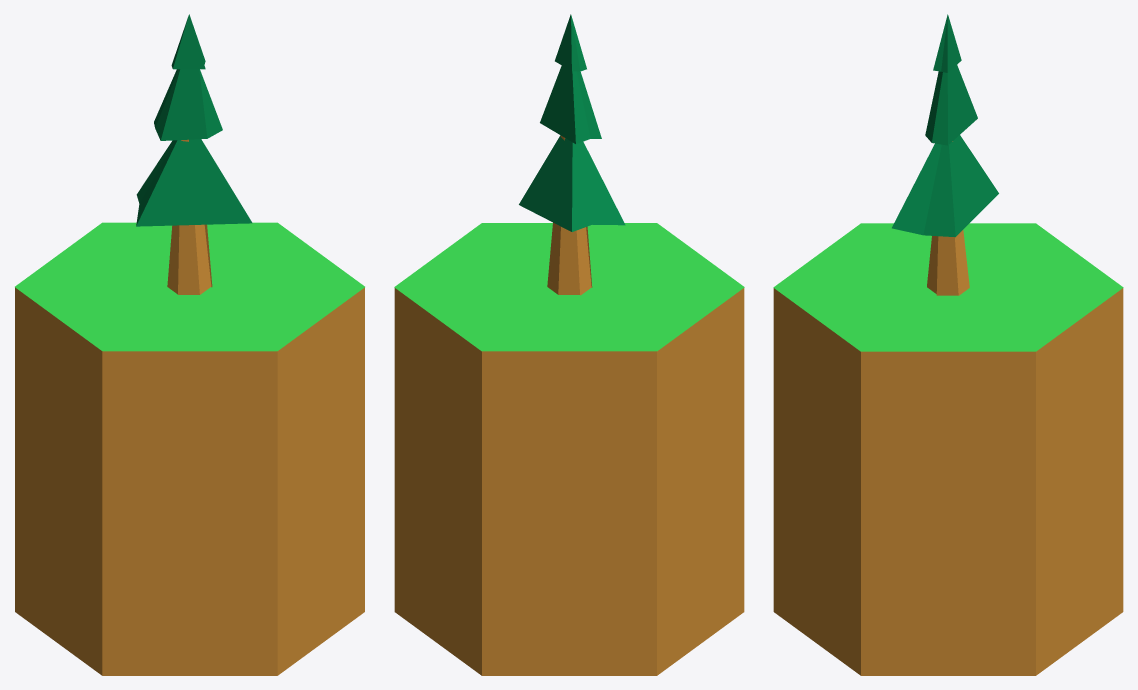
The model's file is HexTree2.fbx.
3 views of the same model, side by side, from view 1: azimuth 30°, elevation 25°; view 2: azimuth 150°, elevation 25°; view 3: azimuth 270°, elevation 25° (orthographic).
Visible parts, largest first — view 1: Cylinder.002; view 2: Cylinder.002; view 3: Cylinder.002.
Boxes of the visible parts, x1,y1,x2,y2 form: Cylinder.002: (15,14,364,675); Cylinder.002: (394,14,744,675); Cylinder.002: (773,14,1123,675).
Bounding box in the file's own units: 174 × 377 × 201.
